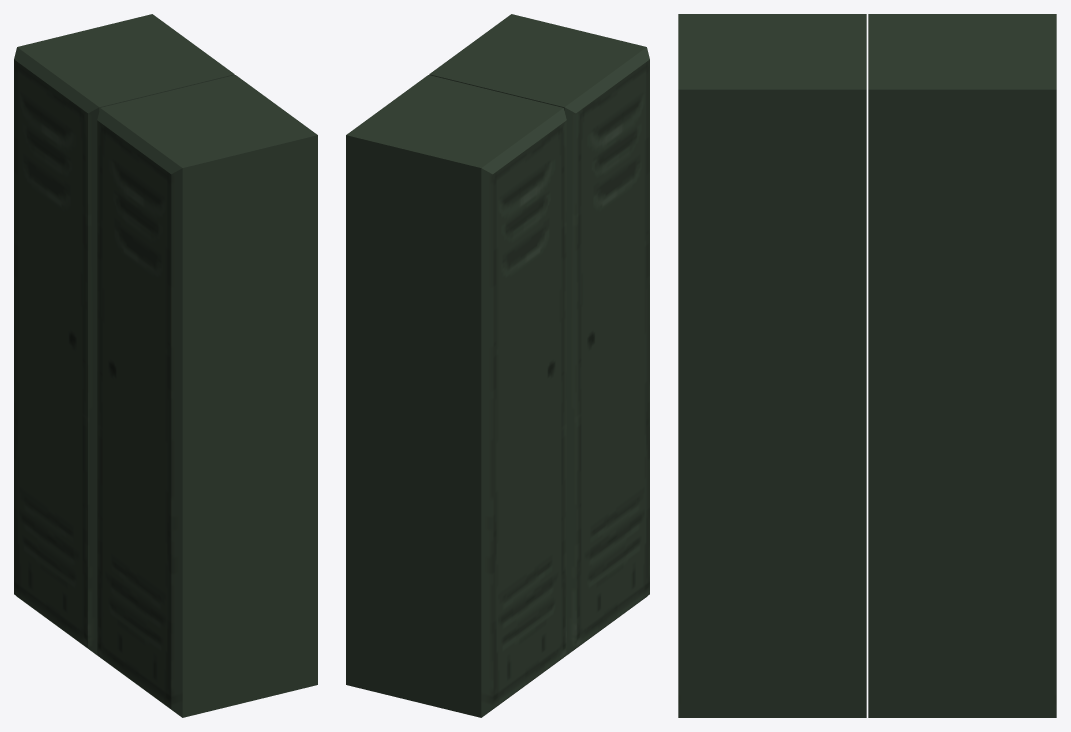
File: locker.glb
The picture shows the model from 3 angles, left to right: view 1: azimuth 30°, elevation 25°; view 2: azimuth 150°, elevation 25°; view 3: azimuth 270°, elevation 25°; orthographic projection. The views are drawn at different scales.
Parts seen in each view (by area): view 1: Cube.001; view 2: Cube.001; view 3: Cube.001.
Part boxes in pixels (box(x1,y1,x2,y2)): Cube.001: box(14, 14, 317, 717); Cube.001: box(346, 14, 649, 717); Cube.001: box(678, 14, 1056, 717).
Bounding box in the file's own units: 0.5725 × 2.11 × 1.15.
Materials: 1 (1 with a texture image).
